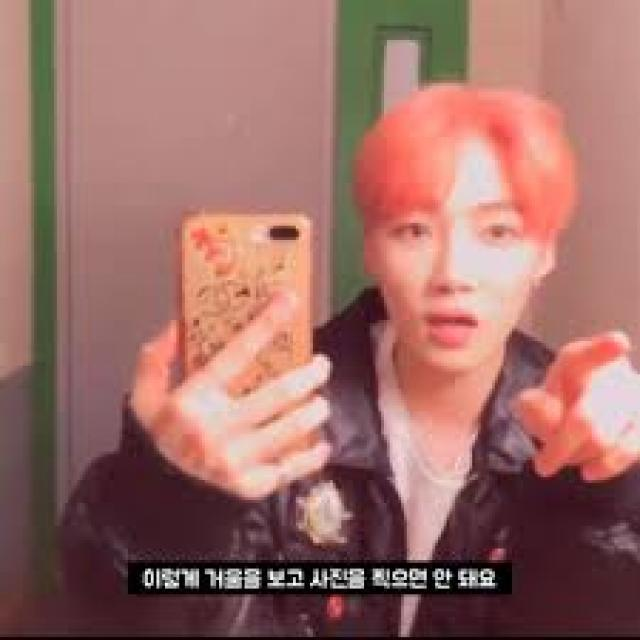Phone: (174, 208, 318, 476)
